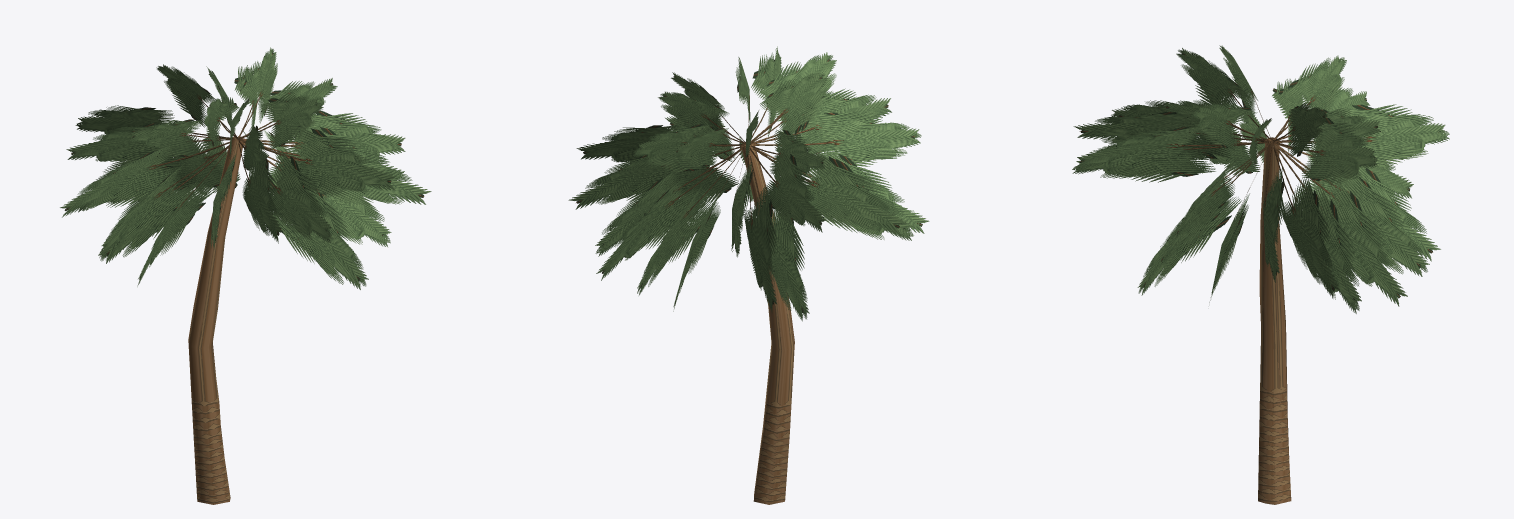
The model's file is dune-date-palm-near.glb.
The picture shows the model from 3 angles, left to right: view 1: azimuth 30°, elevation 25°; view 2: azimuth 150°, elevation 25°; view 3: azimuth 270°, elevation 25°; orthographic projection. The views are drawn at different scales.
Parts seen in each view (by area): view 1: Dune date palm near v3 runtime; view 2: Dune date palm near v3 runtime; view 3: Dune date palm near v3 runtime.
Boxes of the visible parts, x1,y1,x2,y2 form: Dune date palm near v3 runtime: (60,47,431,504); Dune date palm near v3 runtime: (568,46,929,504); Dune date palm near v3 runtime: (1072,45,1449,504).
Size of the model in its own units: 10.08 by 10 by 9.5.
1 material, 1 textured.
